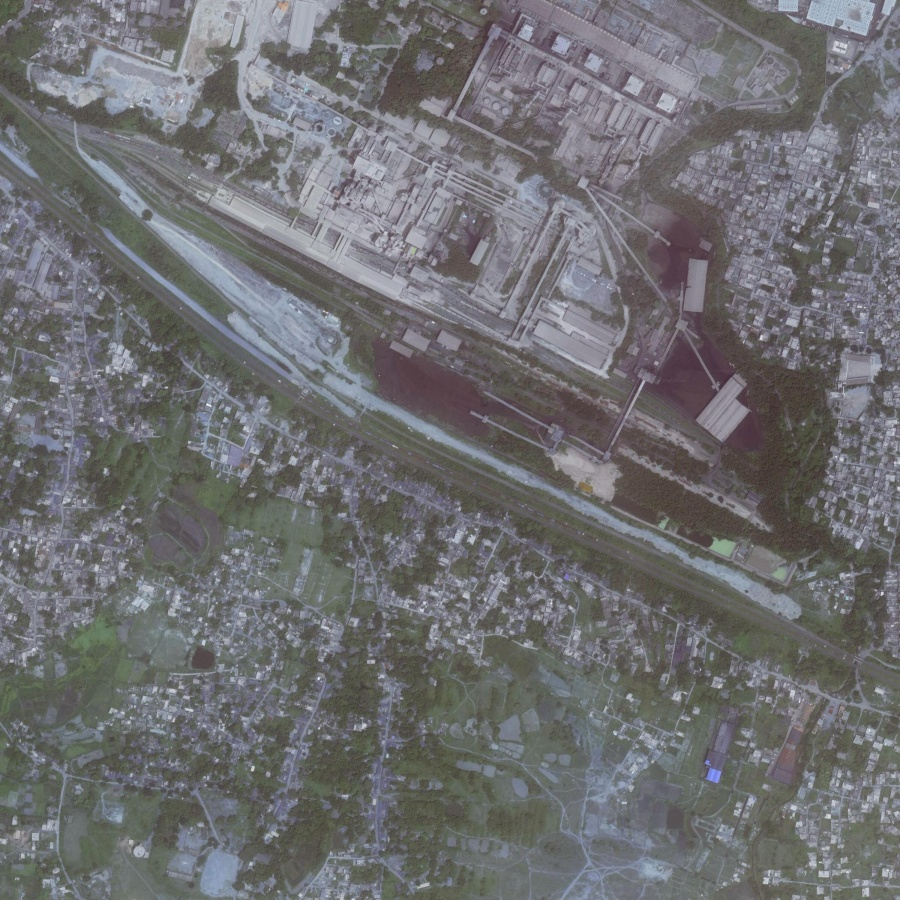PowerPlant: (293, 2, 799, 460)
